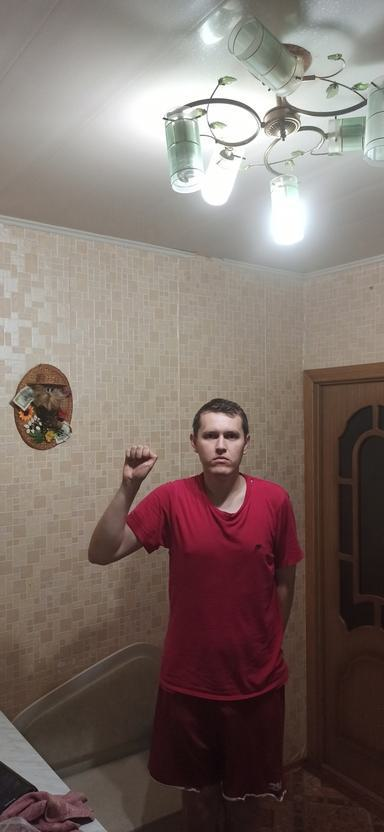fist: (121, 443, 159, 487)
